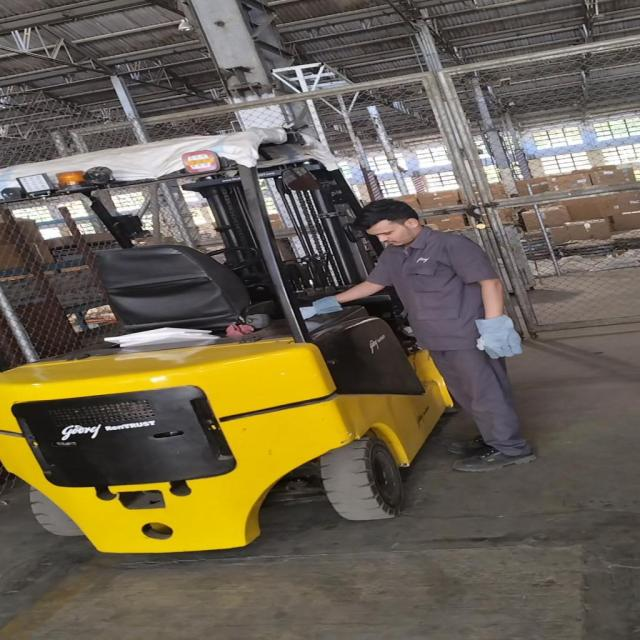Gloves-Detection: (469, 314, 532, 364), (297, 301, 340, 319)
